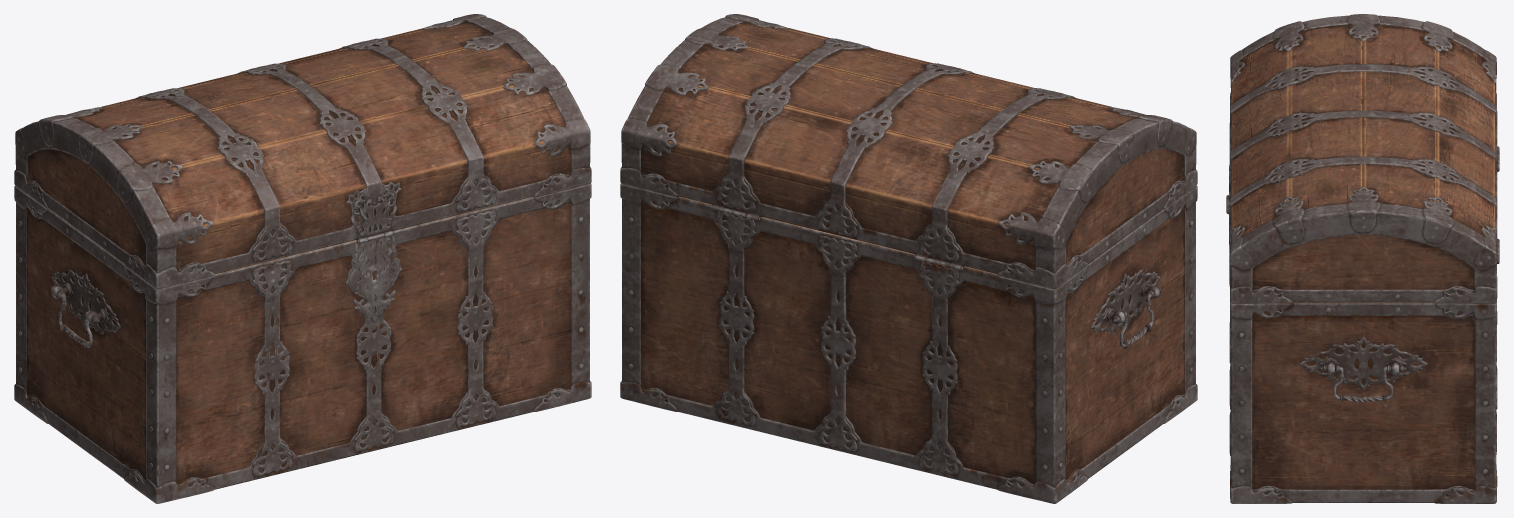
File: treasure_chest_2k.gltf
3 views of the same model, side by side, from view 1: azimuth 30°, elevation 25°; view 2: azimuth 150°, elevation 25°; view 3: azimuth 270°, elevation 25° (orthographic). The views are drawn at different scales.
Visible parts, largest first — view 1: treasure_chest_bottom, treasure_chest_lid, treasure_chest_lock; view 2: treasure_chest_bottom, treasure_chest_lid; view 3: treasure_chest_lid, treasure_chest_bottom, treasure_chest_handle_right.
Boxes of the visible parts, x1,y1,x2,y2 form: treasure_chest_bottom: (14, 183, 591, 503); treasure_chest_lid: (14, 14, 591, 288); treasure_chest_lock: (349, 233, 399, 322); treasure_chest_bottom: (620, 183, 1197, 503); treasure_chest_lid: (620, 14, 1197, 288); treasure_chest_lid: (1226, 14, 1499, 303); treasure_chest_bottom: (1229, 152, 1499, 503); treasure_chest_handle_right: (1320, 365, 1406, 402).
Bounding box in the file's own units: 0.959 × 0.619 × 0.5229.
1 material, 1 textured.
